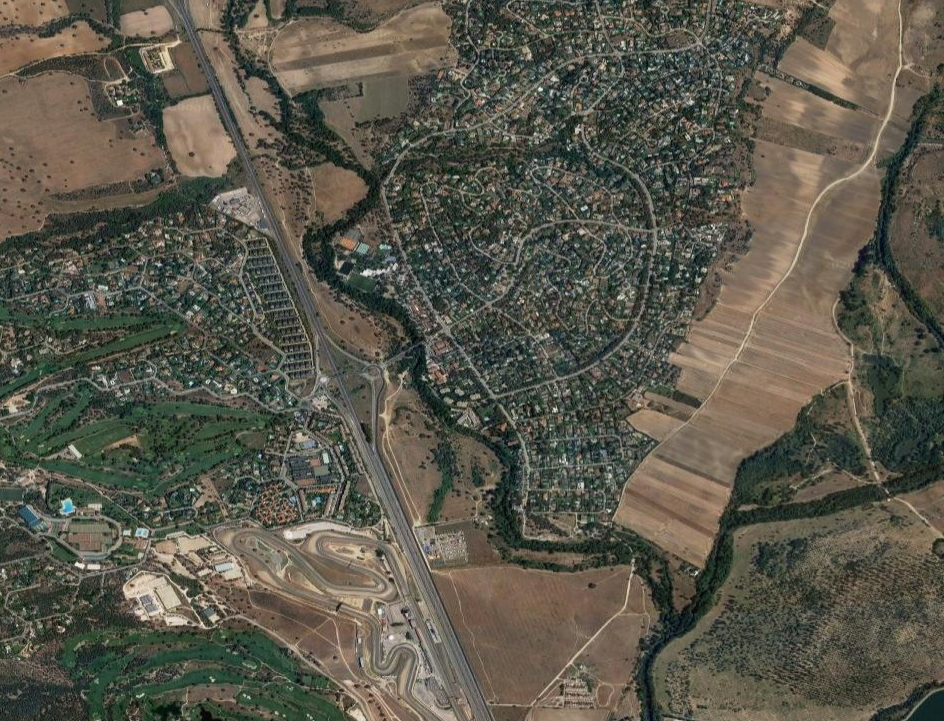motorway: (154, 1, 292, 217), (253, 216, 391, 432), (329, 430, 467, 646), (414, 645, 520, 721)
